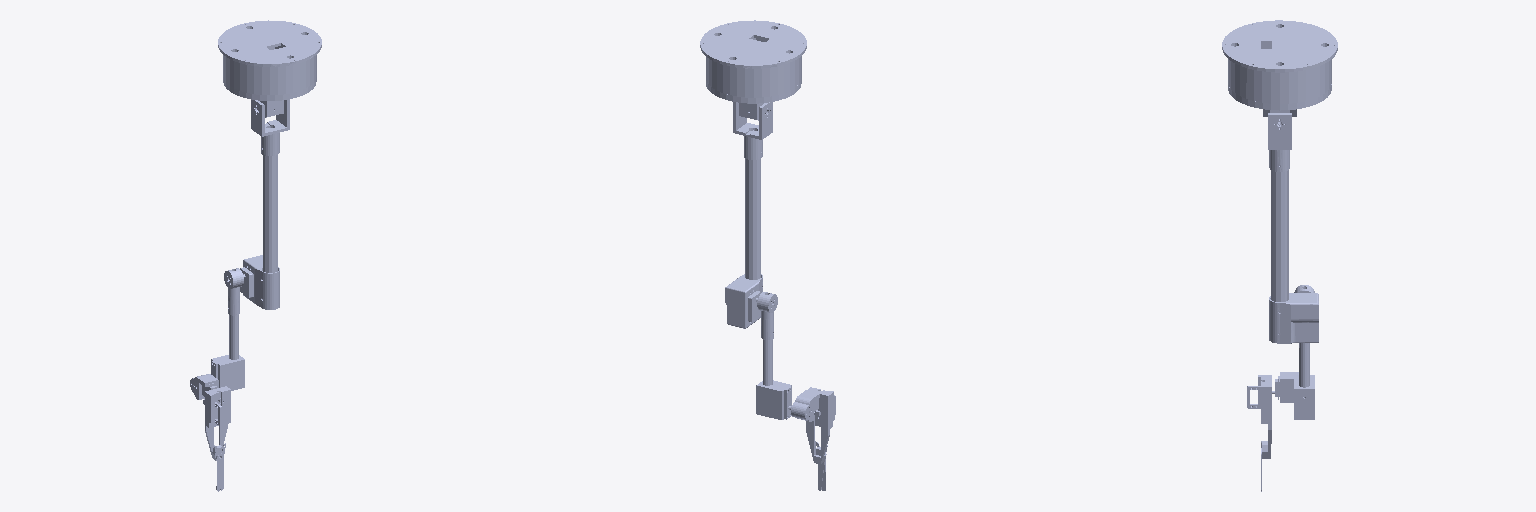
The robot description file, URDF, robot "v3-urdf-6":
<?xml version="1.0" encoding="utf-8" ?>
<!-- This URDF was automatically created by SolidWorks to URDF Exporter! Originally created by [author] ([email redacted]) 
     Commit Version: 1.6.0-1-g15f4949  Build Version: 1.6.7594.29634
     For more information, please see http://wiki.ros.org/sw_urdf_exporter -->
<robot name="v3-urdf-6">
    <link name="dummy_link" />
    <joint name="dummy_link_joint" type="fixed">
        <parent link="dummy_link" />
        <child link="base_link" />
    </joint>
    <link name="base_link">
        <inertial>
            <origin xyz="8.32667268468867E-17 -0.0012604038344468 -0.0187549185822563" rpy="0 0 0" />
            <mass value="0.265472653207226" />
            <inertia ixx="0.000575182944314292" ixy="3.93660090828683E-20" ixz="5.1359721909261E-19" iyy="0.000564304290285172" iyz="5.5285927754385E-07" izz="0.000988505942246299" />
        </inertial>
        <visual>
            <origin xyz="0 0 0" rpy="0 0 0" />
            <geometry>
                <mesh filename="package://v3-urdf-6/meshes/base_link.STL" />
            </geometry>
            <material name="">
                <color rgba="0.792156862745098 0.819607843137255 0.933333333333333 1" />
            </material>
        </visual>
        <collision>
            <origin xyz="0 0 0" rpy="0 0 0" />
            <geometry>
                <mesh filename="package://v3-urdf-6/meshes/base_link.STL" />
            </geometry>
        </collision>
    </link>
    <link name="Link_01">
        <inertial>
            <origin xyz="-0.000577055144954319 5.01025910476516E-05 0.0128743215606511" rpy="0 0 0" />
            <mass value="0.244375093148034" />
            <inertia ixx="0.000265769849271839" ixy="-1.64085273626838E-06" ixz="-3.55565058342774E-06" iyy="0.000256939485743906" iyz="6.05746960422975E-07" izz="0.000463331269136567" />
        </inertial>
        <visual>
            <origin xyz="0 0 0" rpy="0 0 0" />
            <geometry>
                <mesh filename="package://v3-urdf-6/meshes/Link_01.STL" />
            </geometry>
            <material name="">
                <color rgba="0.792156862745098 0.819607843137255 0.933333333333333 1" />
            </material>
        </visual>
        <collision>
            <origin xyz="0 0 0" rpy="0 0 0" />
            <geometry>
                <mesh filename="package://v3-urdf-6/meshes/Link_01.STL" />
            </geometry>
        </collision>
    </link>
    <joint name="Joint_01" type="revolute">
        <origin xyz="0 -0.000246684446740399 -0.0864647263498867" rpy="0 0 0" />
        <parent link="base_link" />
        <child link="Link_01" />
        <axis xyz="0 -0.00285299512527332 -0.999995930201126" />
        <limit lower="-1.5708" upper="1.5708" effort="3.14" velocity="3.14" />
    </joint>
    <link name="Link_02">
        <inertial>
            <origin xyz="-0.000435970693468901 0.0118467980255492 -0.226817924235133" rpy="0 0 0" />
            <mass value="0.304955701783422" />
            <inertia ixx="0.00126964238745699" ixy="8.88344339167712E-08" ixz="-9.02804676047211E-07" iyy="0.00126523818616306" iyz="-2.20600628086594E-06" izz="7.21386335798945E-05" />
        </inertial>
        <visual>
            <origin xyz="0 0 0" rpy="0 0 0" />
            <geometry>
                <mesh filename="package://v3-urdf-6/meshes/Link_02.STL" />
            </geometry>
            <material name="">
                <color rgba="0.792156862745098 0.819607843137255 0.933333333333333 1" />
            </material>
        </visual>
        <collision>
            <origin xyz="0 0 0" rpy="0 0 0" />
            <geometry>
                <mesh filename="package://v3-urdf-6/meshes/Link_02.STL" />
            </geometry>
        </collision>
    </link>
    <joint name="Joint_02" type="revolute">
        <origin xyz="0 3.99E-05 -0.023994" rpy="0 0 0" />
        <parent link="Link_01" />
        <child link="Link_02" />
        <axis xyz="-1 0 0" />
        <limit lower="-1.5708" upper="0.785398" effort="3.14" velocity="3.14" />
    </joint>
    <link name="Link_03">
        <inertial>
            <origin xyz="-0.019687 -0.00034747 -0.12179" rpy="0 0 0" />
            <mass value="0.10859" />
            <inertia ixx="9.7031E-05" ixy="1.1346E-09" ixz="3.9709E-07" iyy="0.00010104" iyz="-2.4286E-07" izz="1.5927E-05" />
        </inertial>
        <visual>
            <origin xyz="0 0 0" rpy="0 0 0" />
            <geometry>
                <mesh filename="package://v3-urdf-6/meshes/Link_03.STL" />
            </geometry>
            <material name="">
                <color rgba="0.79216 0.81961 0.93333 1" />
            </material>
        </visual>
        <collision>
            <origin xyz="0 0 0" rpy="0 0 0" />
            <geometry>
                <mesh filename="package://v3-urdf-6/meshes/Link_03.STL" />
            </geometry>
        </collision>
    </link>
    <joint name="Joint_03" type="revolute">
        <origin xyz="-0.03335 0.035436 -0.3045" rpy="0 0 0" />
        <parent link="Link_02" />
        <child link="Link_03" />
        <axis xyz="-1 0 0" />
        <limit lower="-3.92699" upper="0.785398" effort="3.14" velocity="3.14" />
    </joint>
    <link name="Link_04">
        <inertial>
            <origin xyz="-0.0114977638353557 -0.0156824592263618 -0.0013821191419145" rpy="0 0 0" />
            <mass value="0.0343315641288587" />
            <inertia ixx="7.9875937562257E-06" ixy="5.1051460432443E-07" ixz="1.56698592992394E-07" iyy="5.05832054046965E-06" iyz="2.22281021933712E-07" izz="6.05229808572967E-06" />
        </inertial>
        <visual>
            <origin xyz="0 0 0" rpy="0 0 0" />
            <geometry>
                <mesh filename="package://v3-urdf-6/meshes/Link_04.STL" />
            </geometry>
            <material name="">
                <color rgba="0.792156862745098 0.819607843137255 0.933333333333333 1" />
            </material>
        </visual>
        <collision>
            <origin xyz="0 0 0" rpy="0 0 0" />
            <geometry>
                <mesh filename="package://v3-urdf-6/meshes/Link_04.STL" />
            </geometry>
        </collision>
    </link>
    <joint name="Joint_04" type="revolute">
        <origin xyz="-0.0607 -0.00048672 -0.1706" rpy="0 0 0" />
        <parent link="Link_03" />
        <child link="Link_04" />
        <axis xyz="1 0 0" />
        <limit lower="-1.0472" upper="2.0944" effort="3.14" velocity="3.14" />
    </joint>
    <link name="Link_05">
        <inertial>
            <origin xyz="-0.0132889710061485 -0.0545794765856557 -0.0324381761089964" rpy="0 0 0" />
            <mass value="0.0414407009953059" />
            <inertia ixx="4.00625861806028E-05" ixy="-4.65756394341085E-07" ixz="5.53047809182474E-07" iyy="4.45996012310707E-05" iyz="1.26957775656402E-06" izz="7.19543728402428E-06" />
        </inertial>
        <visual>
            <origin xyz="0 0 0" rpy="0 0 0" />
            <geometry>
                <mesh filename="package://v3-urdf-6/meshes/Link_05.STL" />
            </geometry>
            <material name="">
                <color rgba="0.792156862745098 0.819607843137255 0.933333333333333 1" />
            </material>
        </visual>
        <collision>
            <origin xyz="0 0 0" rpy="0 0 0" />
            <geometry>
                <mesh filename="package://v3-urdf-6/meshes/Link_05.STL" />
            </geometry>
        </collision>
    </link>
    <joint name="Joint_05" type="revolute">
        <origin xyz="0 0 0" rpy="0 0 0" />
        <parent link="Link_04" />
        <child link="Link_05" />
        <axis xyz="0 -1 0.002853" />
        <limit lower="-1.5708" upper="1.5708" effort="3.14" velocity="3.14" />
    </joint>
    <link name="Link_06">
        <inertial>
            <origin xyz="0.000570680667676737 -0.000660868164783619 -0.0213338868489261" rpy="0 0 0" />
            <mass value="0.000761864636787562" />
            <inertia ixx="3.1487045172099E-07" ixy="1.11259733849357E-10" ixz="3.89973610746952E-08" iyy="3.26921626514567E-07" iyz="-8.97798546915398E-10" izz="1.22391451570109E-08" />
        </inertial>
        <visual>
            <origin xyz="0 0 0" rpy="0 0 0" />
            <geometry>
                <mesh filename="package://v3-urdf-6/meshes/Link_06.STL" />
            </geometry>
            <material name="">
                <color rgba="0.792156862745098 0.819607843137255 0.933333333333333 1" />
            </material>
        </visual>
        <collision>
            <origin xyz="0 0 0" rpy="0 0 0" />
            <geometry>
                <mesh filename="package://v3-urdf-6/meshes/Link_06.STL" />
            </geometry>
        </collision>
    </link>
    <joint name="Joint_06" type="revolute">
        <origin xyz="-0.0124 -0.059894 -0.10303" rpy="0 0 0" />
        <parent link="Link_05" />
        <child link="Link_06" />
        <axis xyz="0 -1 0.002853" />
        <limit lower="-0.7853" upper="0.7853" effort="0" velocity="0" />
    </joint>
    <link name="Link_07">
        <inertial>
            <origin xyz="-0.000554111123867995 -0.00186086465598078 -0.0213309451869724" rpy="0 0 0" />
            <mass value="0.000761864636787564" />
            <inertia ixx="3.1493706577419E-07" ixy="-1.10519686021588E-10" ixz="-3.87379688277931E-08" iyy="3.26921625972357E-07" iyz="-8.97988595711064E-10" izz="1.21725316460213E-08" />
        </inertial>
        <visual>
            <origin xyz="0 0 0" rpy="0 0 0" />
            <geometry>
                <mesh filename="package://v3-urdf-6/meshes/Link_07.STL" />
            </geometry>
            <material name="">
                <color rgba="0.792156862745098 0.819607843137255 0.933333333333333 1" />
            </material>
        </visual>
        <collision>
            <origin xyz="0 0 0" rpy="0 0 0" />
            <geometry>
                <mesh filename="package://v3-urdf-6/meshes/Link_07.STL" />
            </geometry>
        </collision>
    </link>
    <joint name="Joint_07" type="revolute">
        <origin xyz="-0.0124 -0.059894 -0.10303" rpy="0 0 0" />
        <parent link="Link_05" />
        <child link="Link_07" />
        <axis xyz="0 1 -0.002853" />
        <limit lower="-0.7853" upper="0.7853" effort="0" velocity="0" />
    </joint>
    <transmission name="trans_Joint_01">
        <type>transmission_interface/SimpleTransmission</type>
        <joint name="Joint_01">
            <hardwareInterface>hardware_interface/PositionJointInterface</hardwareInterface>
        </joint>
        <actuator name="Joint_01_motor">
            <hardwareInterface>hardware_interface/PositionJointInterface</hardwareInterface>
            <mechanicalReduction>1</mechanicalReduction>
        </actuator>
    </transmission>
    <transmission name="trans_Joint_02">
        <type>transmission_interface/SimpleTransmission</type>
        <joint name="Joint_02">
            <hardwareInterface>hardware_interface/PositionJointInterface</hardwareInterface>
        </joint>
        <actuator name="Joint_02_motor">
            <hardwareInterface>hardware_interface/PositionJointInterface</hardwareInterface>
            <mechanicalReduction>1</mechanicalReduction>
        </actuator>
    </transmission>
    <transmission name="trans_Joint_03">
        <type>transmission_interface/SimpleTransmission</type>
        <joint name="Joint_03">
            <hardwareInterface>hardware_interface/PositionJointInterface</hardwareInterface>
        </joint>
        <actuator name="Joint_03_motor">
            <hardwareInterface>hardware_interface/PositionJointInterface</hardwareInterface>
            <mechanicalReduction>1</mechanicalReduction>
        </actuator>
    </transmission>
    <transmission name="trans_Joint_04">
        <type>transmission_interface/SimpleTransmission</type>
        <joint name="Joint_04">
            <hardwareInterface>hardware_interface/PositionJointInterface</hardwareInterface>
        </joint>
        <actuator name="Joint_04_motor">
            <hardwareInterface>hardware_interface/PositionJointInterface</hardwareInterface>
            <mechanicalReduction>1</mechanicalReduction>
        </actuator>
    </transmission>
    <transmission name="trans_Joint_05">
        <type>transmission_interface/SimpleTransmission</type>
        <joint name="Joint_05">
            <hardwareInterface>hardware_interface/PositionJointInterface</hardwareInterface>
        </joint>
        <actuator name="Joint_05_motor">
            <hardwareInterface>hardware_interface/PositionJointInterface</hardwareInterface>
            <mechanicalReduction>1</mechanicalReduction>
        </actuator>
    </transmission>
    <transmission name="trans_Joint_06">
        <type>transmission_interface/SimpleTransmission</type>
        <joint name="Joint_06">
            <hardwareInterface>hardware_interface/PositionJointInterface</hardwareInterface>
        </joint>
        <actuator name="Joint_06_motor">
            <hardwareInterface>hardware_interface/PositionJointInterface</hardwareInterface>
            <mechanicalReduction>1</mechanicalReduction>
        </actuator>
    </transmission>
    <transmission name="trans_Joint_07">
        <type>transmission_interface/SimpleTransmission</type>
        <joint name="Joint_07">
            <hardwareInterface>hardware_interface/PositionJointInterface</hardwareInterface>
        </joint>
        <actuator name="Joint_07_motor">
            <hardwareInterface>hardware_interface/PositionJointInterface</hardwareInterface>
            <mechanicalReduction>1</mechanicalReduction>
        </actuator>
    </transmission>
    <gazebo>
        <plugin name="gazebo_ros_control">
            <robotNamespace>/</robotNamespace>
        </plugin>
    </gazebo>
</robot>

--- What the picture shows (computed from the rendered views, not written in the file) ---
Views: 3 orthographic renders of the robot side by side, from view 1: azimuth 30°, elevation 25°; view 2: azimuth 150°, elevation 25°; view 3: azimuth 270°, elevation 25°.
Model v3-urdf-6 with 9 links and 8 joints (7 revolute, 1 fixed), rooted at dummy_link, posed all joints at 0.
Visible links, largest first — view 1: base_link, Link_02, Link_03, Link_05, Link_01; view 2: base_link, Link_02, Link_03, Link_05, Link_01, Link_04; view 3: base_link, Link_02, Link_03, Link_05, Link_01, Link_04.
Link boxes in pixels (left/top/right/bottom): base_link: left=218, top=20, right=321, bottom=94; Link_02: left=240, top=99, right=289, bottom=309; Link_03: left=211, top=268, right=244, bottom=390; Link_05: left=205, top=386, right=230, bottom=460; Link_01: left=223, top=77, right=316, bottom=117; base_link: left=700, top=20, right=806, bottom=97; Link_02: left=725, top=102, right=772, bottom=328; Link_03: left=756, top=292, right=793, bottom=419; Link_05: left=806, top=387, right=835, bottom=464; Link_01: left=706, top=78, right=801, bottom=120; Link_04: left=791, top=390, right=821, bottom=421; base_link: left=1222, top=20, right=1337, bottom=103; Link_02: left=1268, top=113, right=1318, bottom=343; Link_03: left=1294, top=285, right=1314, bottom=419; Link_05: left=1247, top=375, right=1271, bottom=458; Link_01: left=1228, top=84, right=1331, bottom=125; Link_04: left=1272, top=372, right=1298, bottom=402.
Bounding box of the posed robot: 0.2087 × 0.165 × 0.7493 m (x, y, z).
Meshes: 8 distinct files referenced, 8 mesh visuals loaded (8 binary STL).